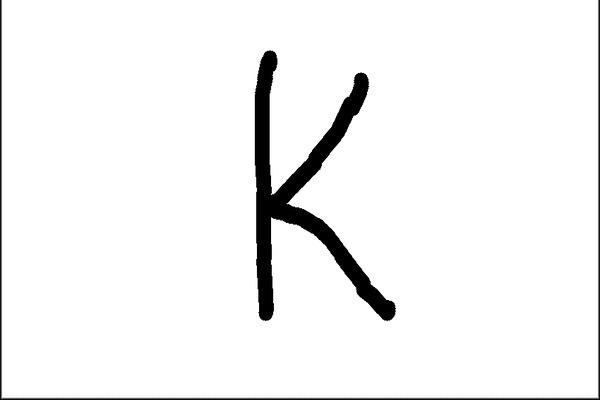K: (244, 44, 402, 328)
